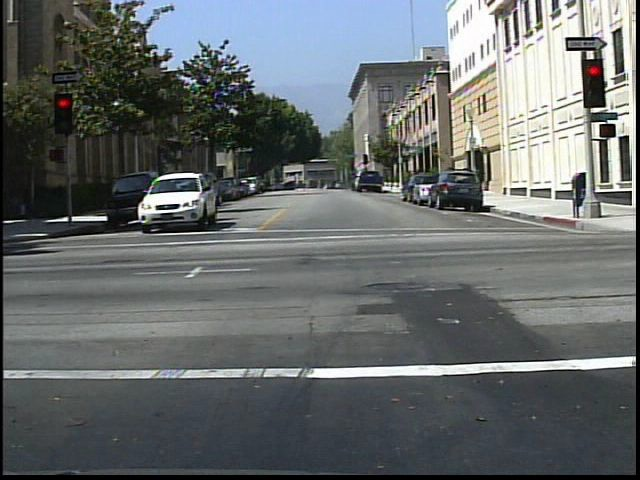person: (298, 172, 312, 194)
